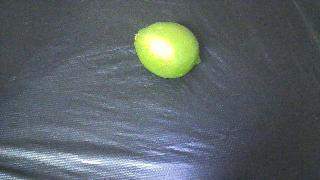LOCAL: (134, 22, 201, 78)
